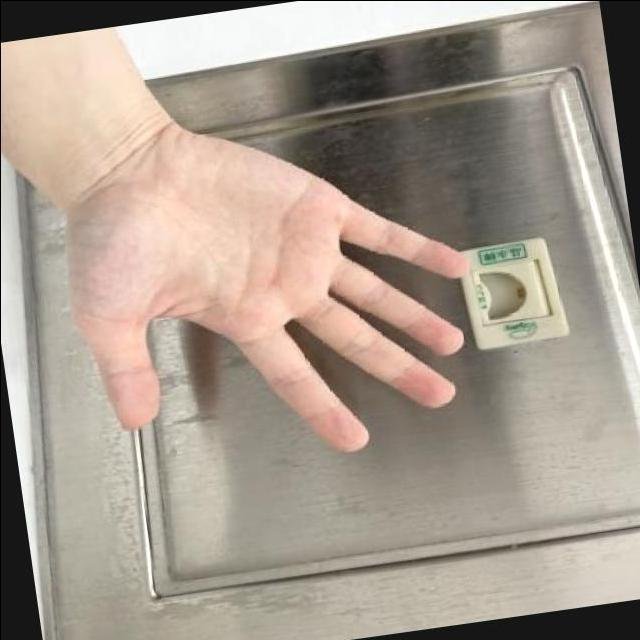hand: (19, 70, 542, 515)
